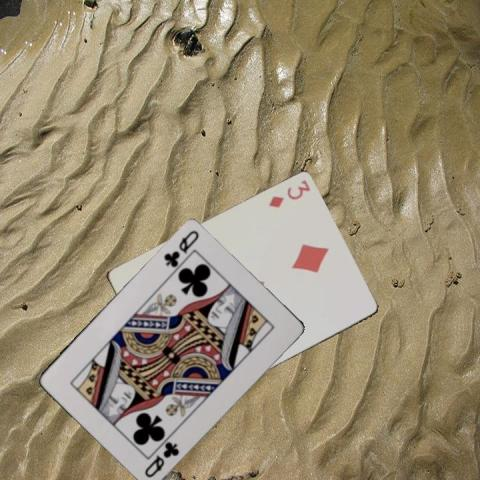3d: (266, 177, 312, 210)
Qc: (160, 226, 200, 268), (141, 438, 181, 479)
